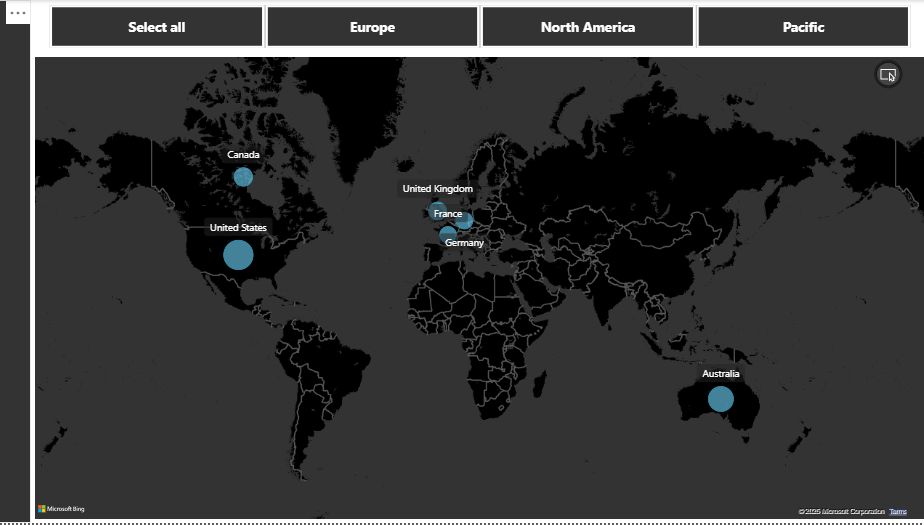

This screenshot's page, from the dashboard's own definition file:
{"tool":"powerbi","page":{"name":"Maps","canvas":[1280,720],"ordinal":1},"visuals":[{"type":"shape","box":[0,0,45,720],"z":0},{"type":"map","fields":{"Category":["Territory Lookup.Country"],"Size":["Measure table.Total Orders"]},"box":[45.4,73.2,1235.1,646.8],"z":1000},{"type":"slicer","fields":{"Values":["Territory Lookup.Continent"]},"box":[45.7,0,1234.3,72.8],"z":2000}]}

Visuals, with their boxes in screenshot pixels (x1, y1, x2, y2):
shape: detection(0, 2, 30, 515)
map - Territory Lookup.Country x Measure table.Total Orders: detection(30, 55, 909, 515)
slicer - Territory Lookup.Continent: detection(30, 2, 909, 54)
